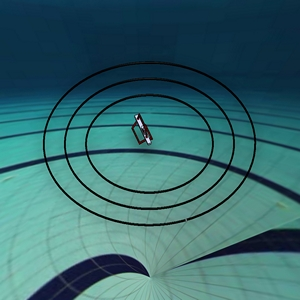circle: (41, 35, 270, 248)
submarine: (118, 109, 168, 152)
